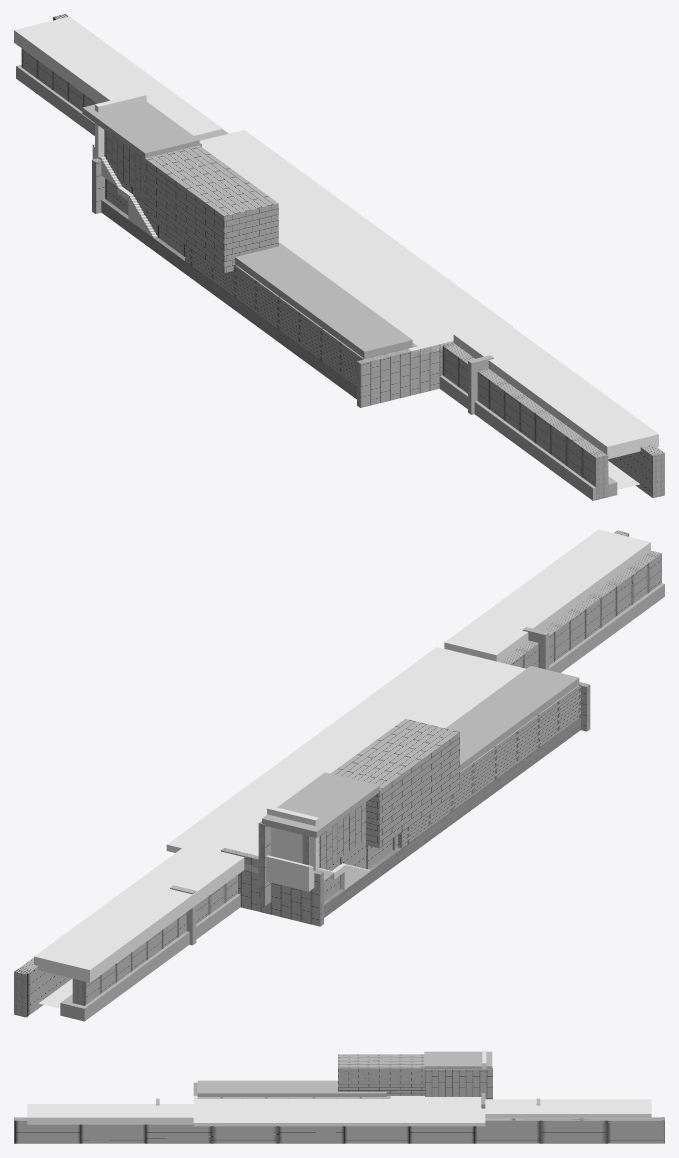
The model's file is subway.fbx.
3 views of the same model, one above another, from view 1: azimuth 30°, elevation 25°; view 2: azimuth 150°, elevation 25°; view 3: azimuth 270°, elevation 25° (orthographic). The views are drawn at different scales.
Parts seen in each view (by area): view 1: Cube (4) (×2), Cube (8), Cube (40), Cube (41), Cube (39), Cube (3) (×2), Cube (9), Cube (1) (×2), Cube (2) (×2), Cube (10), Cube (38), Cube (+1 smaller); view 2: Cube (4) (×2), Cube (41), Cube (40), Cube (8), Cube (1) (×3), Cube (39), Cube (9), Cube (10), Cube (2) (×2), Cube (6), Cube (38), Cube (3) (+3 smaller); view 3: Cube (2), Cube (4) (×2), Cube (40), Cube (8), Cube (41), Cube (1), Cube (10), Cube (9).
Boxes of the visible parts, left/top/right/bottom form: Cube (4) (×2): left=199, top=130, right=512, bottom=358; Cube (8): left=144, top=145, right=278, bottom=273; Cube (40): left=453, top=322, right=658, bottom=458; Cube (41): left=14, top=16, right=222, bottom=140; Cube (39): left=442, top=343, right=608, bottom=500; Cube (3) (×2): left=16, top=64, right=453, bottom=407; Cube (9): left=185, top=245, right=416, bottom=386; Cube (1) (×2): left=101, top=130, right=356, bottom=399; Cube (2) (×2): left=53, top=14, right=664, bottom=500; Cube (10): left=82, top=101, right=199, bottom=158; Cube (38): left=21, top=48, right=96, bottom=111; Cube: left=105, top=175, right=184, bottom=256; Cube (4) (×2): left=166, top=647, right=579, bottom=872; Cube (41): left=34, top=843, right=244, bottom=982; Cube (40): left=444, top=529, right=650, bottom=661; Cube (8): left=331, top=719, right=459, bottom=848; Cube (1) (×3): left=258, top=717, right=580, bottom=917; Cube (39): left=499, top=550, right=661, bottom=668; Cube (9): left=398, top=684, right=580, bottom=848; Cube (10): left=262, top=772, right=379, bottom=838; Cube (2) (×2): left=14, top=530, right=664, bottom=1017; Cube (6): left=221, top=848, right=323, bottom=926; Cube (38): left=72, top=875, right=237, bottom=1005; Cube (3): left=60, top=894, right=240, bottom=1021; Cube (2): left=14, top=1117, right=664, bottom=1143; Cube (4) (×2): left=193, top=1080, right=485, bottom=1126; Cube (40): left=27, top=1104, right=193, bottom=1124; Cube (8): left=338, top=1054, right=424, bottom=1095; Cube (41): left=485, top=1099, right=651, bottom=1118; Cube (1): left=425, top=1068, right=492, bottom=1099; Cube (10): left=424, top=1051, right=492, bottom=1069; Cube (9): left=197, top=1096, right=390, bottom=1098.
Bounding box in the file's own units: 25.82 × 16.69 × 172.
